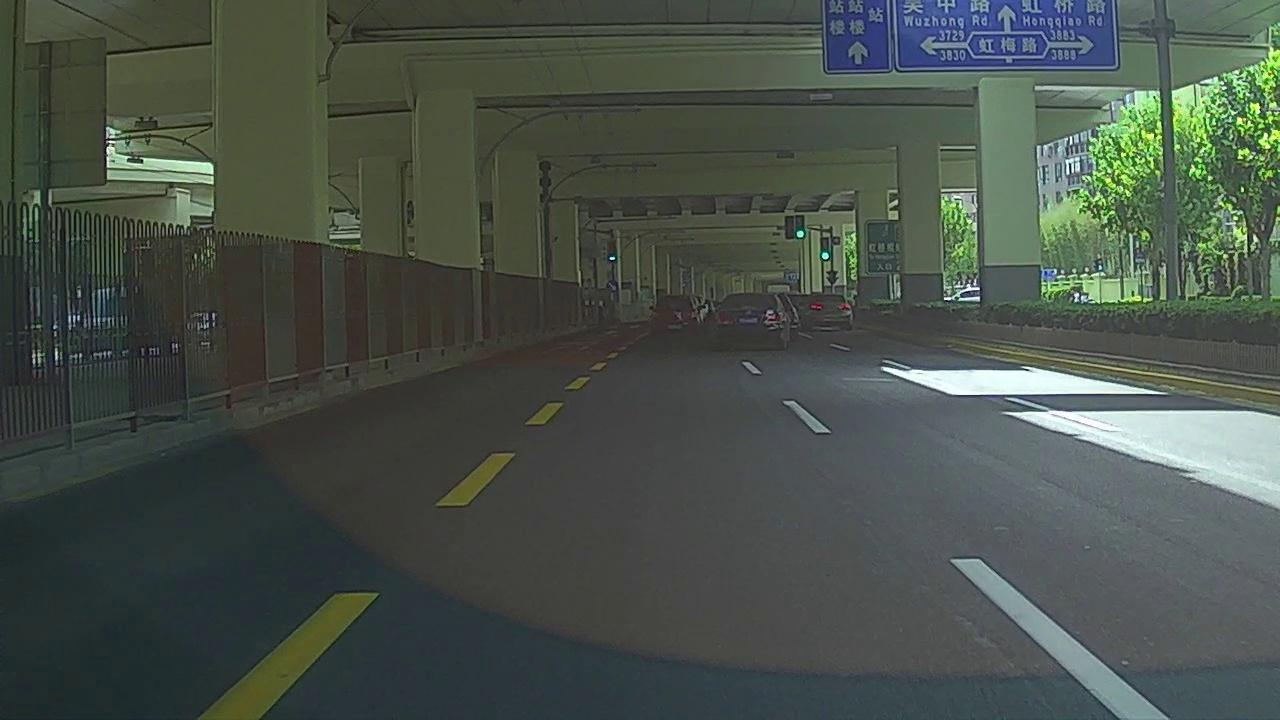traffic_light: (784, 218, 798, 239), (820, 237, 830, 262), (796, 215, 805, 240)
